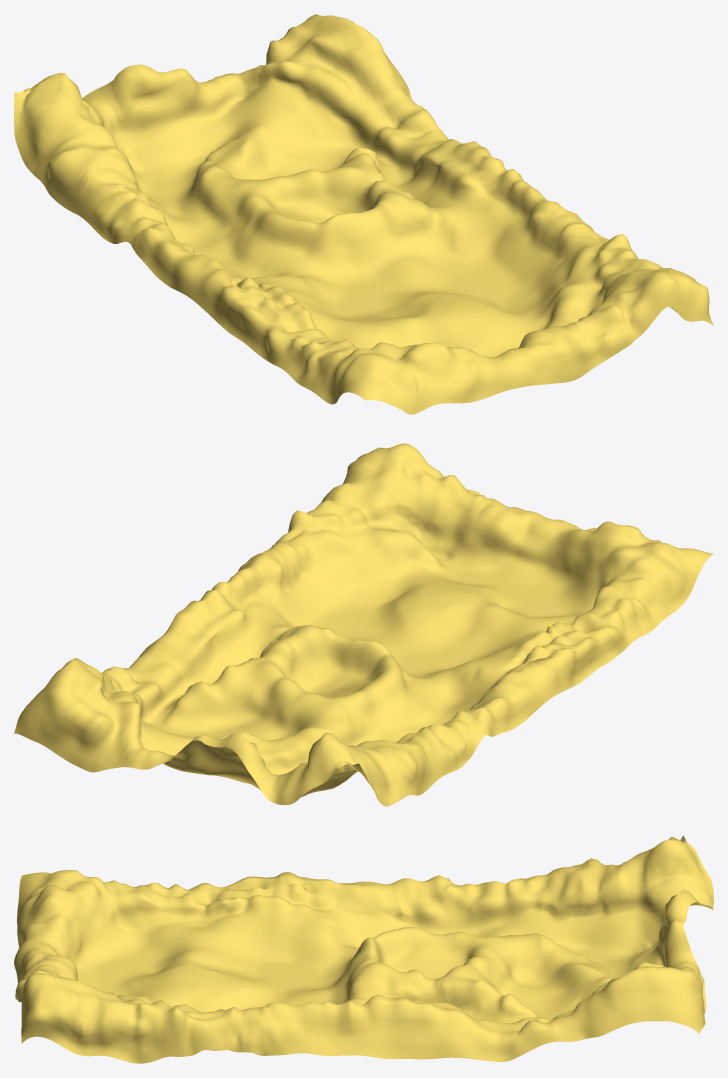
Rendered from Terrain.FBX.
The picture shows the model from 3 angles, top to bottom: view 1: azimuth 30°, elevation 25°; view 2: azimuth 150°, elevation 25°; view 3: azimuth 270°, elevation 25°; orthographic projection. The views are drawn at different scales.
Visible parts, largest first — view 1: Plane002; view 2: Plane002; view 3: Plane002.
Boxes of the visible parts, bbox=[...] form: Plane002: bbox=[14, 14, 713, 414]; Plane002: bbox=[14, 443, 713, 806]; Plane002: bbox=[14, 835, 713, 1063].
Size of the model in its own units: 5174 by 1355 by 9337.
